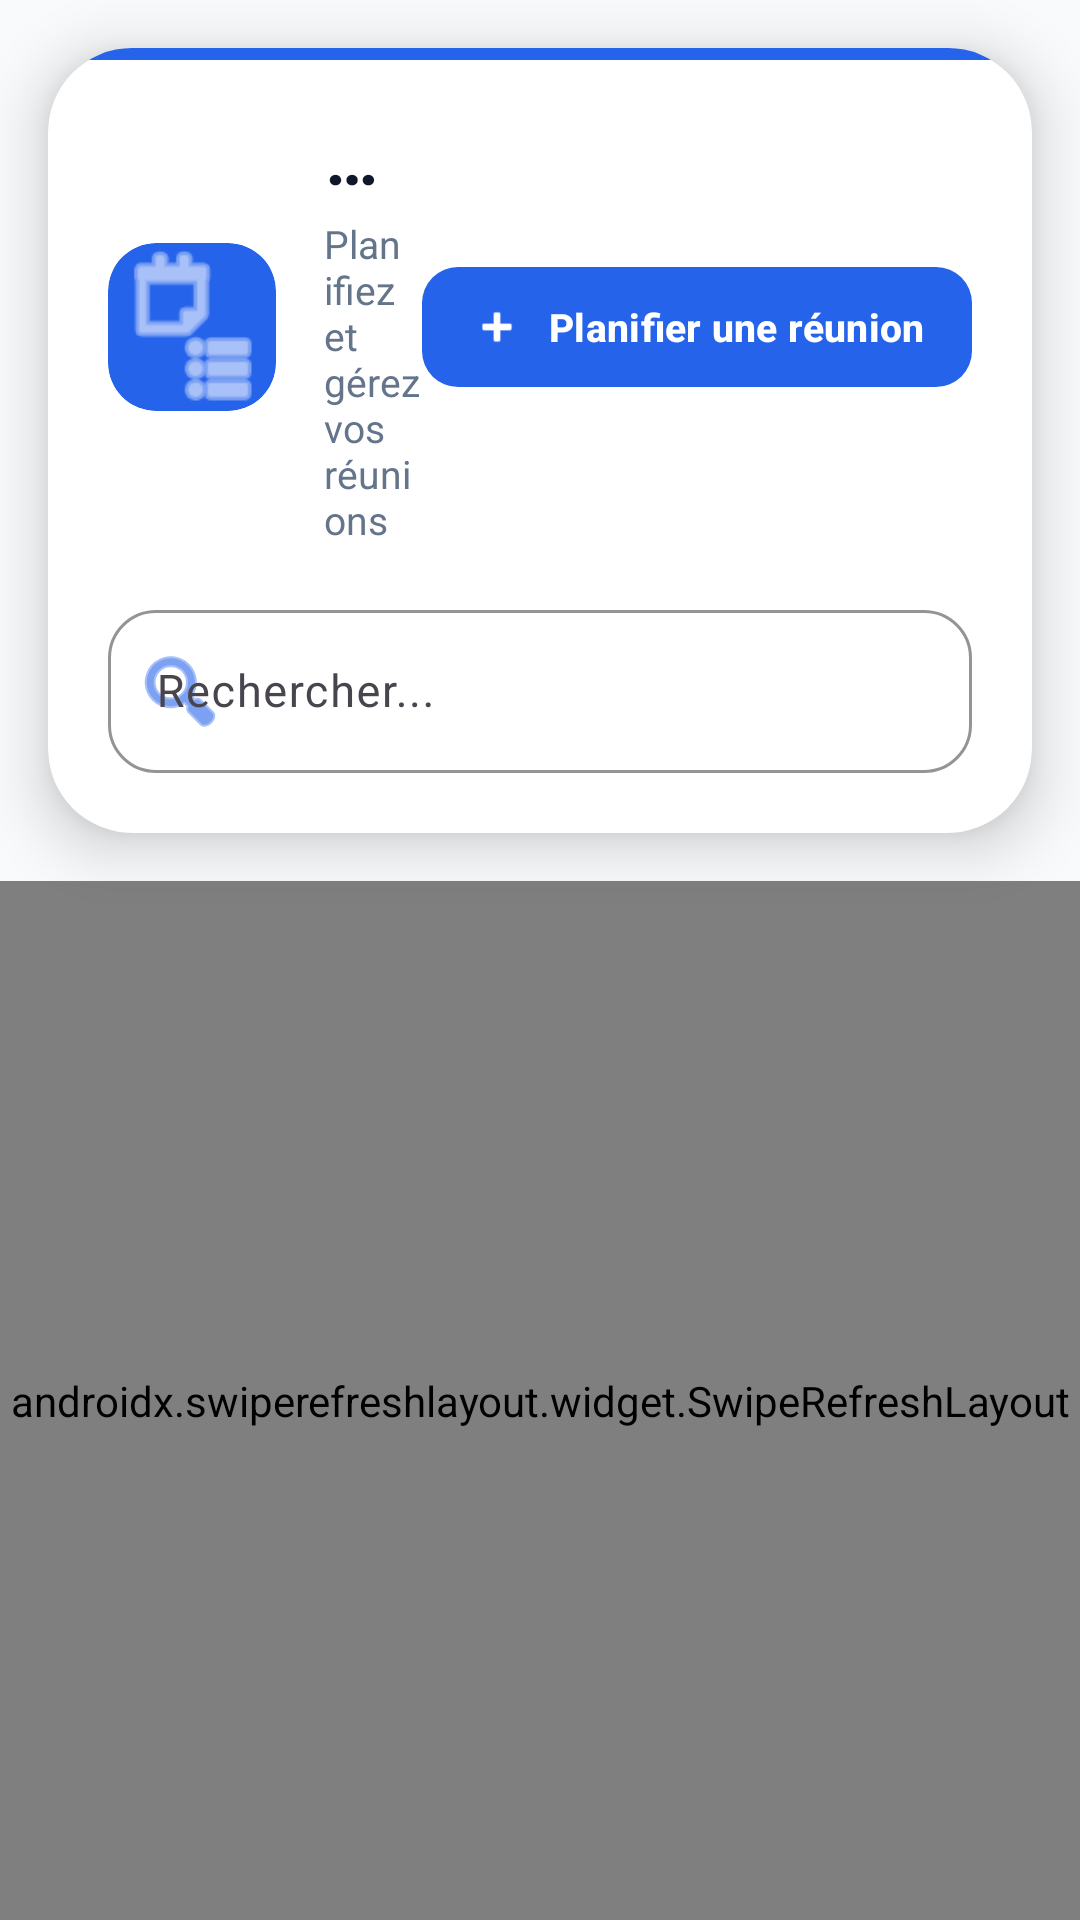

Point at icon controls on the screen. Image size 1080x1920, points as [x,y].
agenda: [192,327]
